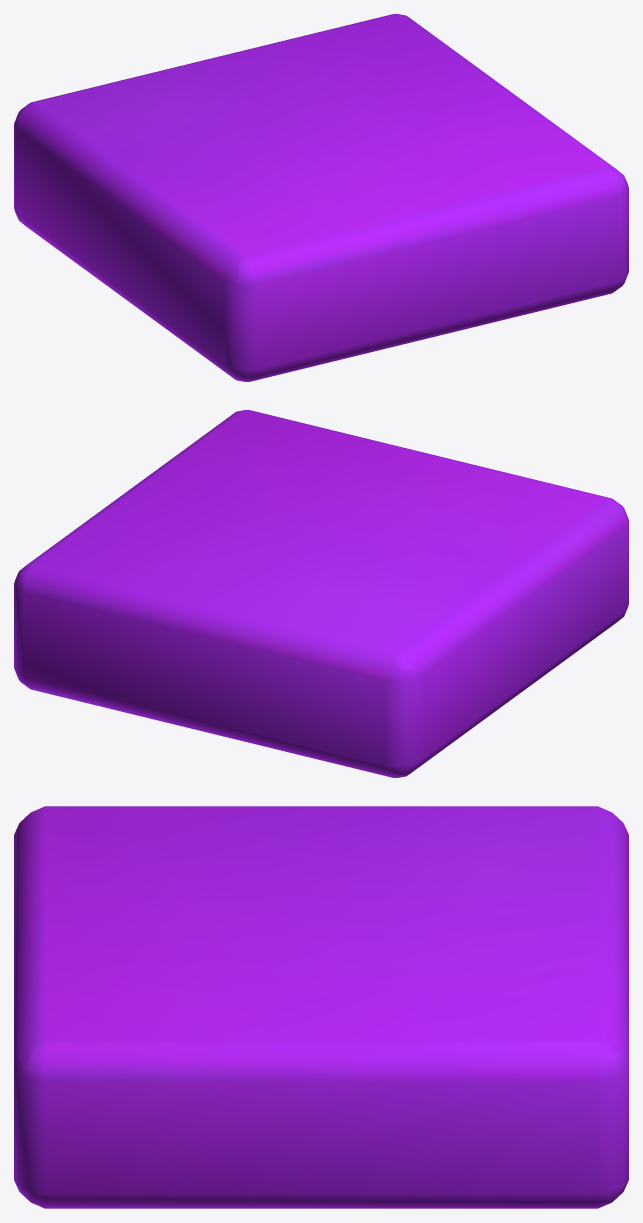
The model's file is SquareBlockPink.fbx.
The picture shows the model from 3 angles, top to bottom: view 1: azimuth 30°, elevation 25°; view 2: azimuth 150°, elevation 25°; view 3: azimuth 270°, elevation 25°; orthographic projection. The views are drawn at different scales.
Visible parts, largest first — view 1: SquareBlock; view 2: SquareBlock; view 3: SquareBlock.
Part boxes in pixels (x1=…): SquareBlock: x1=14, y1=14, x2=628, y2=381; SquareBlock: x1=14, y1=410, x2=628, y2=777; SquareBlock: x1=14, y1=806, x2=628, y2=1208.
Bounding box in the file's own units: 4 × 1.2 × 4.
